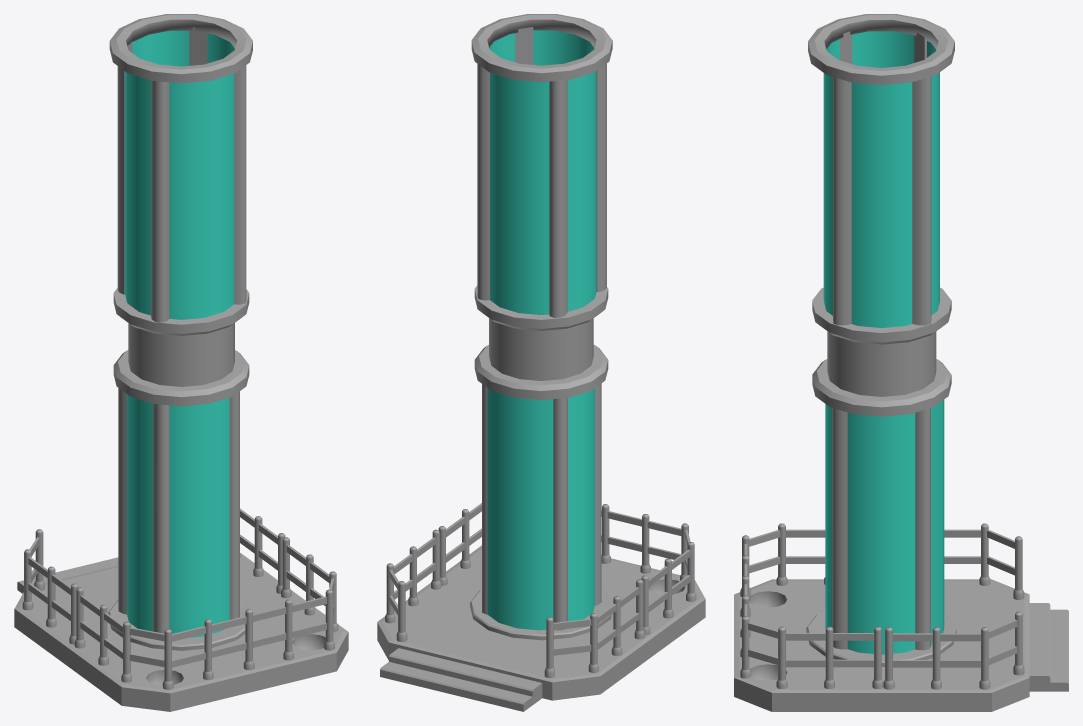
File: Elevator.fbx
3 renders of one model, left to right at view 1: azimuth 30°, elevation 25°; view 2: azimuth 150°, elevation 25°; view 3: azimuth 270°, elevation 25°, orthographic. The views are drawn at different scales.
Parts seen in each view (by area): view 1: Elevator; view 2: Elevator, GlassDoor1; view 3: Elevator, GlassDoor1.
Boxes of the visible parts, x1,y1,x2,y2 form: Elevator: [14, 14, 348, 711]; Elevator: [377, 14, 705, 711]; GlassDoor1: [487, 388, 553, 630]; Elevator: [734, 14, 1068, 711]; GlassDoor1: [931, 400, 944, 645].
Bounding box in the file's own units: 2.71 × 6.82 × 3.38.
